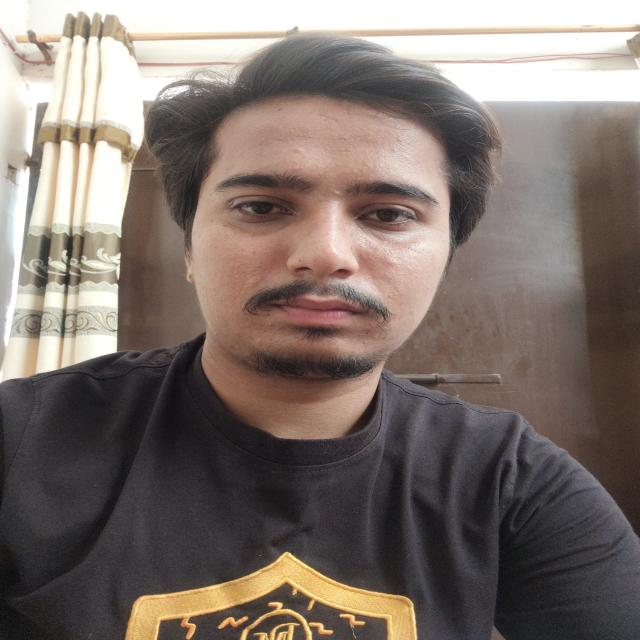Acne: (381, 254, 400, 269), (329, 188, 342, 197), (292, 147, 307, 154), (290, 164, 302, 170), (395, 136, 405, 142), (389, 146, 399, 152), (393, 288, 400, 296), (265, 322, 274, 328)
Englarged-Pores: (364, 235, 423, 282), (220, 246, 264, 285)
Eyebags: (355, 219, 424, 247), (225, 212, 299, 238)
Wrinkles: (287, 135, 361, 143)
